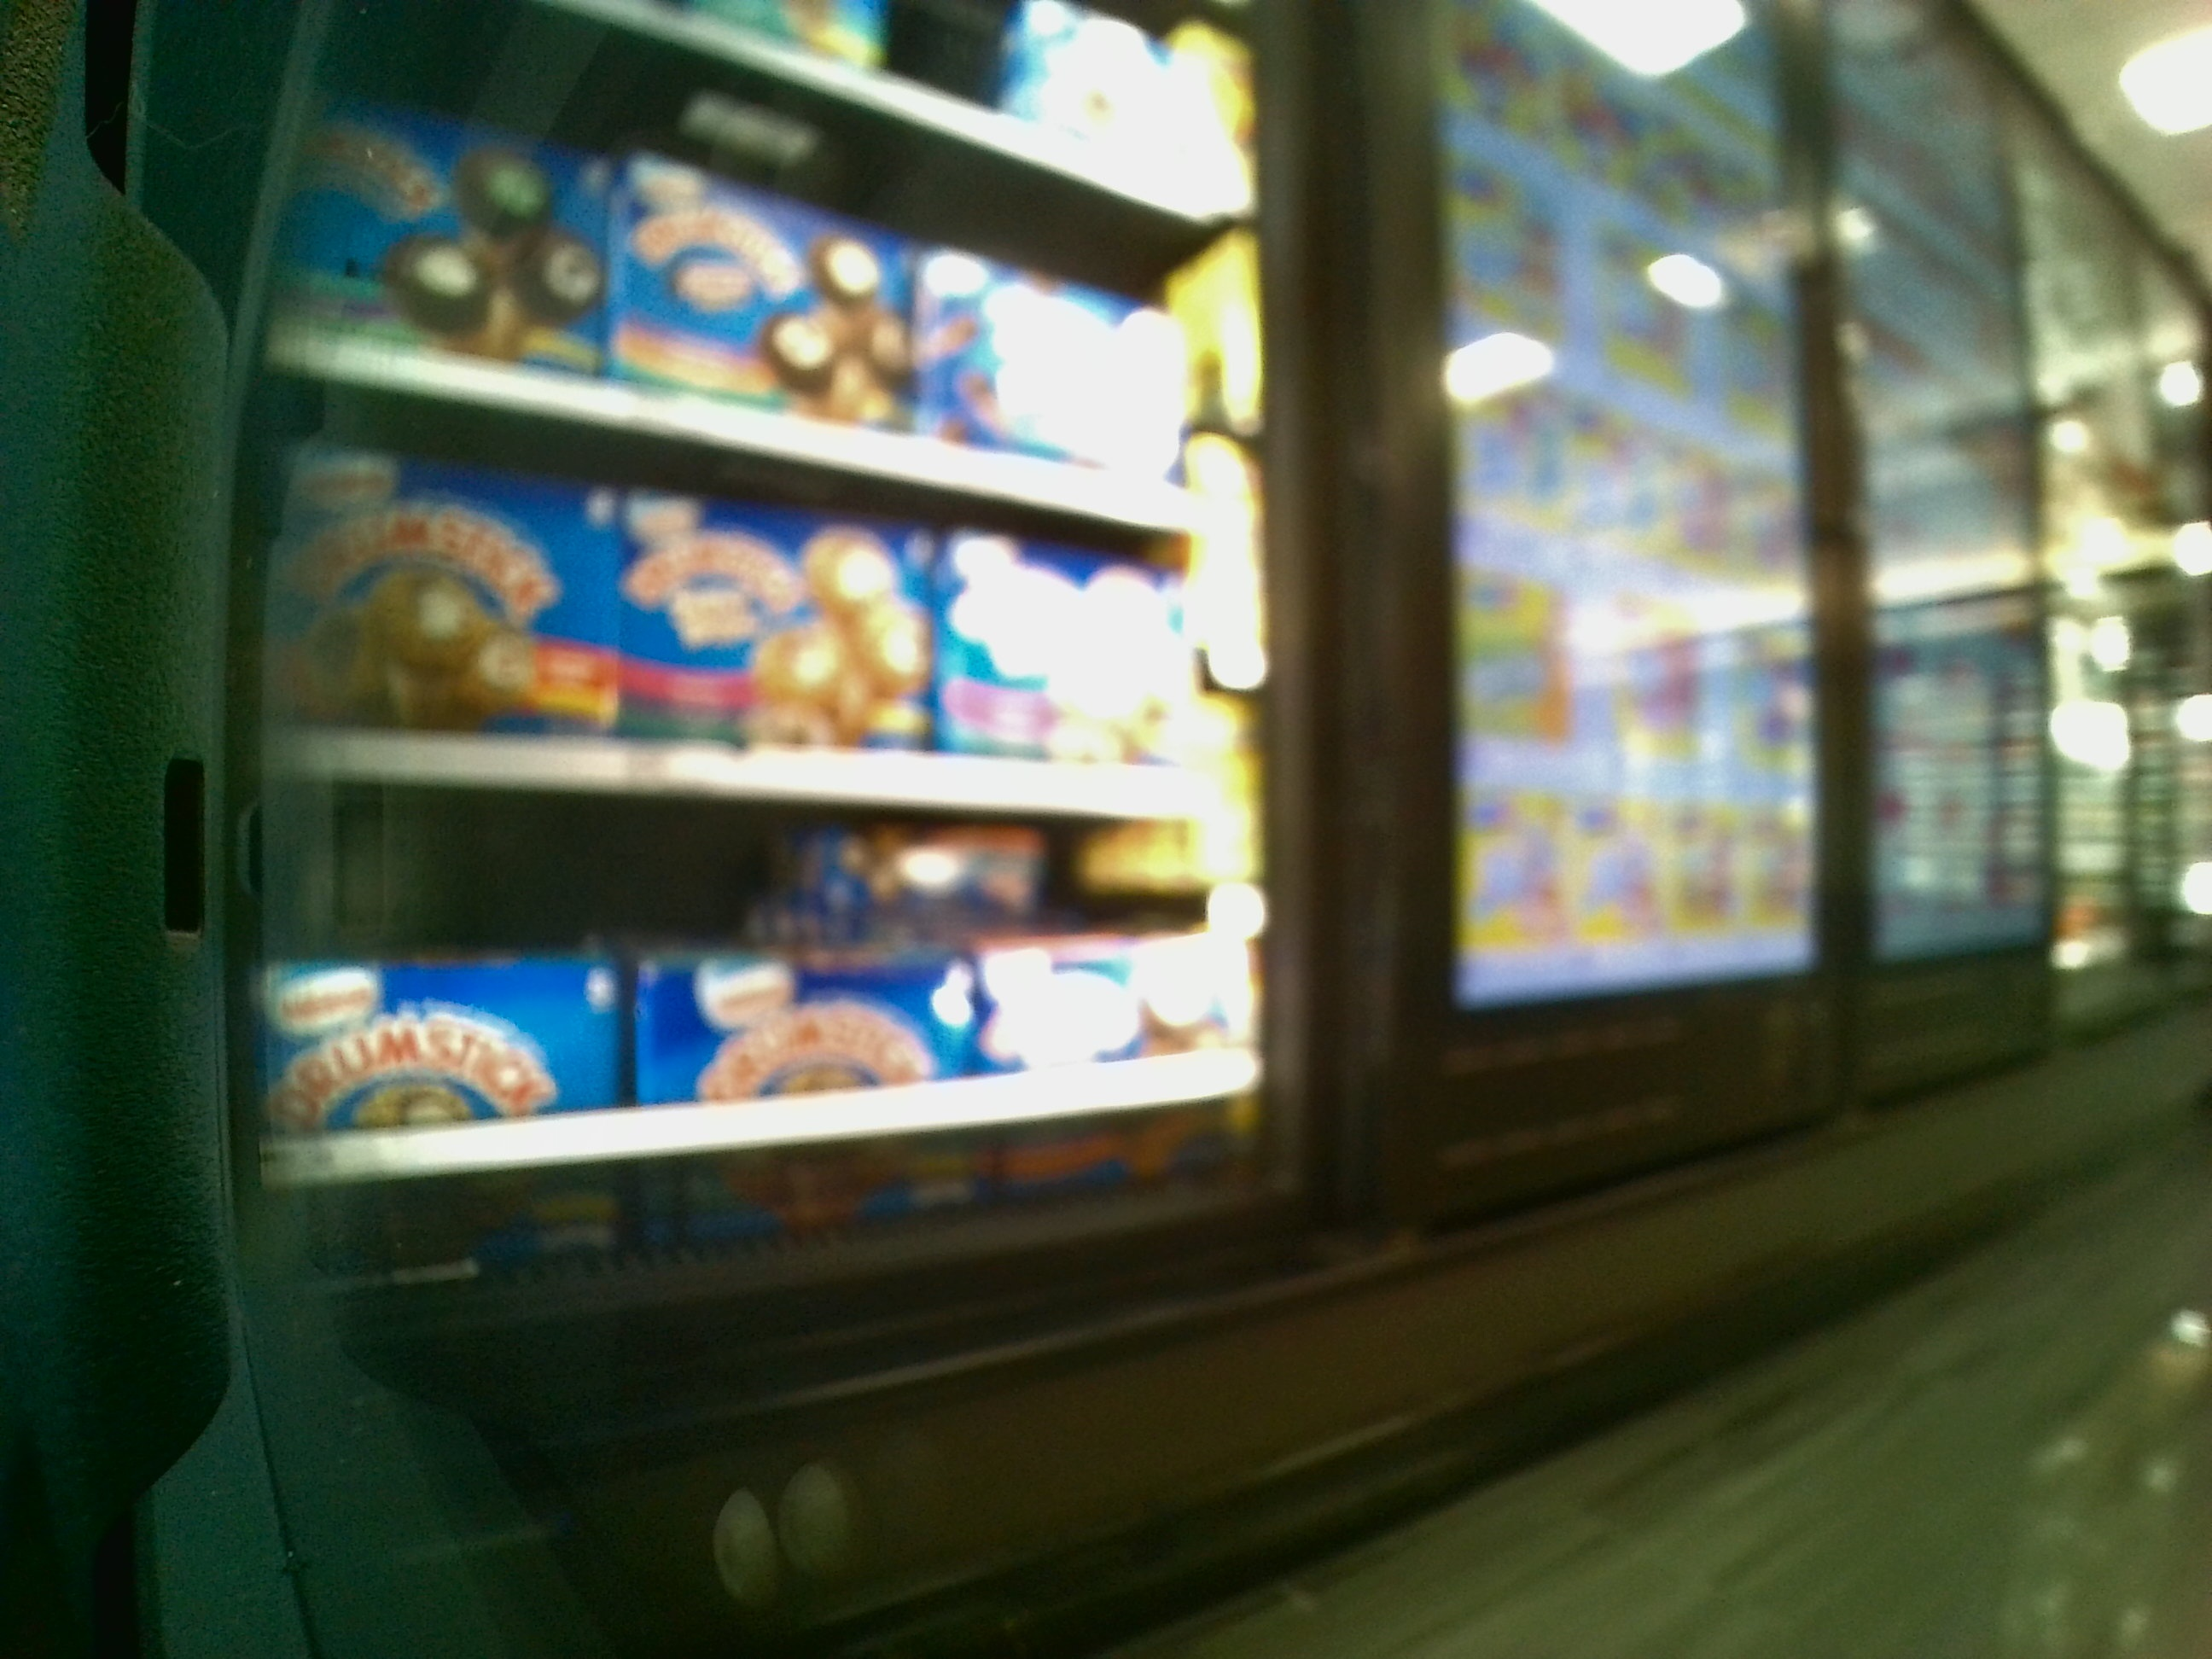shelf: (273, 805, 1270, 1223), (282, 420, 1266, 816)
